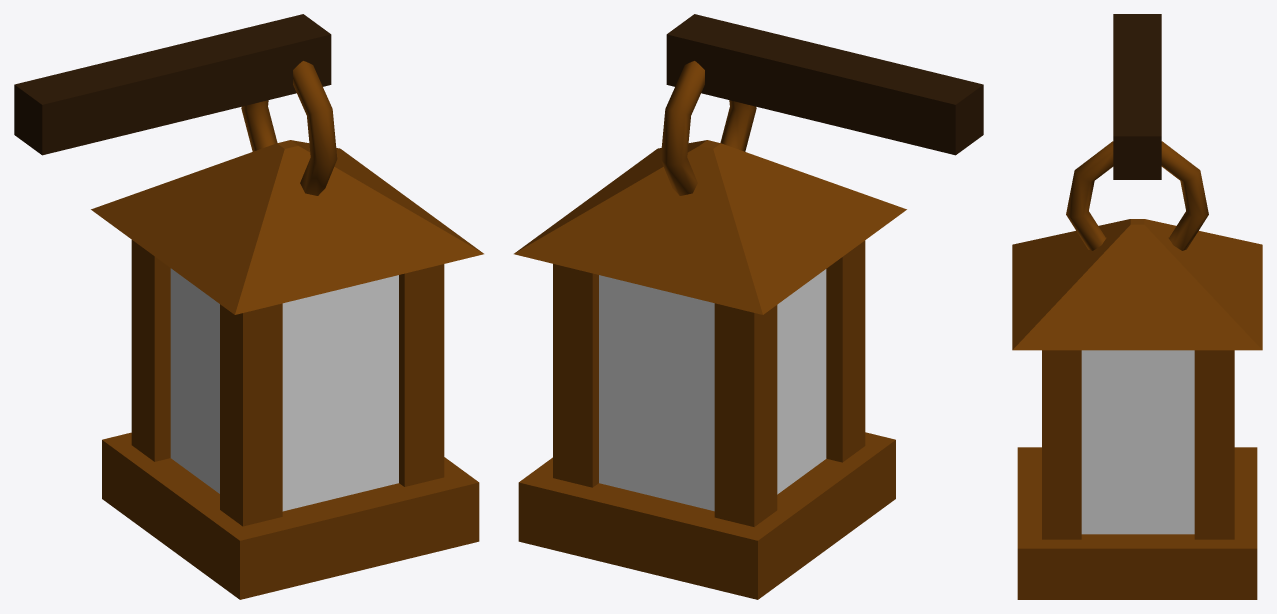
The model's file is barn_asset_5.fbx.
3 views of the same model, side by side, from view 1: azimuth 30°, elevation 25°; view 2: azimuth 150°, elevation 25°; view 3: azimuth 270°, elevation 25° (orthographic). The views are drawn at different scales.
Visible parts, largest first — view 1: lamp, hanger; view 2: lamp, hanger; view 3: lamp, hanger.
Part boxes in pixels (x1,y1,x2,y2): lamp: (91, 61, 483, 599); hanger: (14, 14, 331, 155); lamp: (514, 61, 906, 599); hanger: (666, 14, 983, 155); lamp: (1012, 141, 1262, 599); hanger: (1113, 14, 1161, 179).
Bounding box in the file's own units: 446 × 543 × 290.
